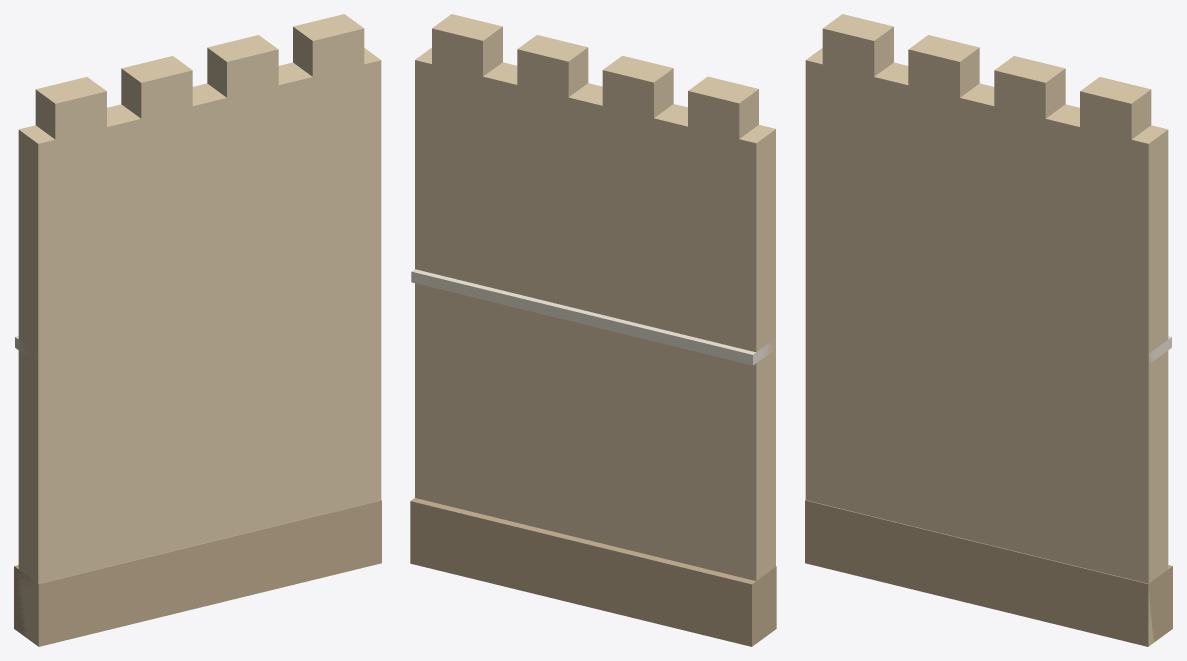
Rendered from SD_Wall.fbx.
3 renders of one model, left to right at view 1: azimuth 30°, elevation 25°; view 2: azimuth 150°, elevation 25°; view 3: azimuth 330°, elevation 25°, orthographic.
Visible parts, largest first — view 1: SD_Wall; view 2: SD_Wall; view 3: SD_Wall.
Part boxes in pixels (x1,y1,x2,y2): SD_Wall: (14, 14, 381, 646); SD_Wall: (410, 14, 776, 646); SD_Wall: (805, 14, 1172, 646).
Size of the model in its own units: 4 by 6 by 0.5.
